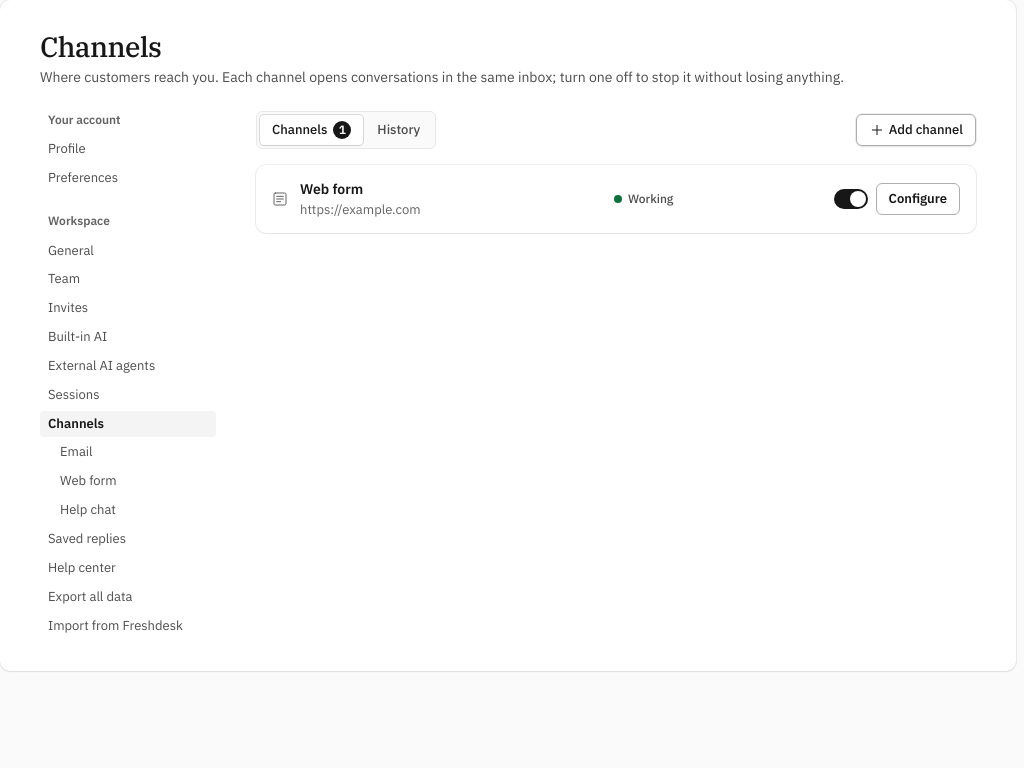
turning a channel off asks first, then sends enabled false; a failure puts the switch back and says so
This screenshot has width=1024, height=768.
Click the switch named "Web form". click: (851, 199)
box: [834,189,868,209]
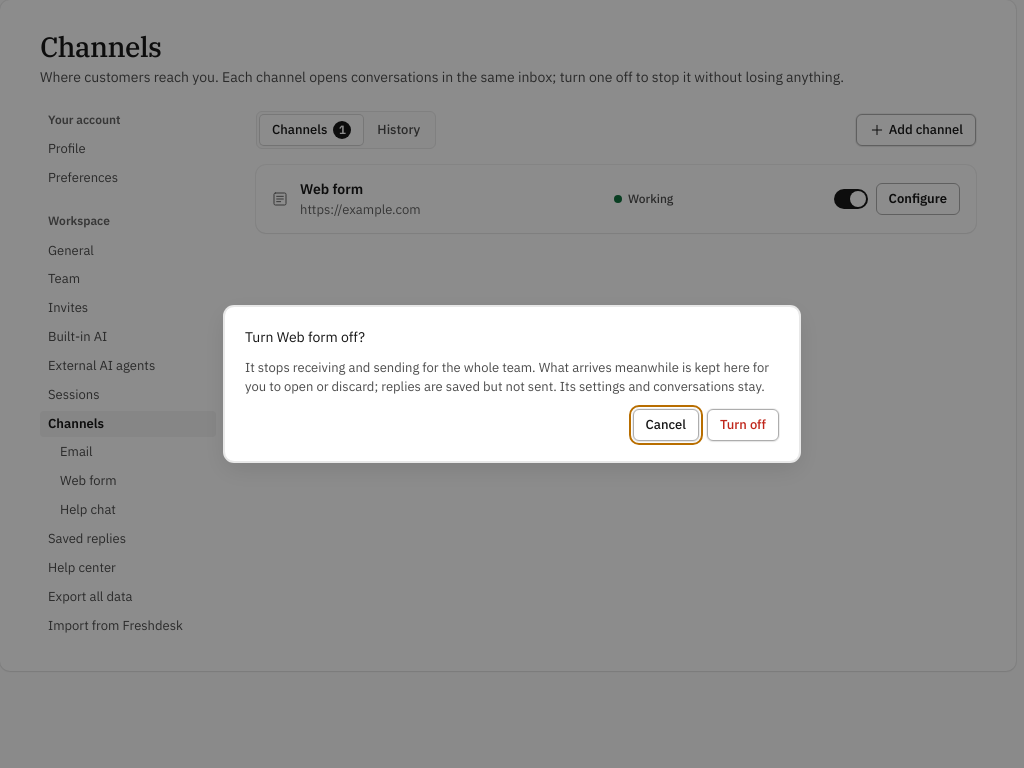
Expected: the dialog "Turn Web form off?" shows "conversations stay", [245,359,769,395]
Click the button "Turn off". click: (743, 425)
box: [707,409,779,441]
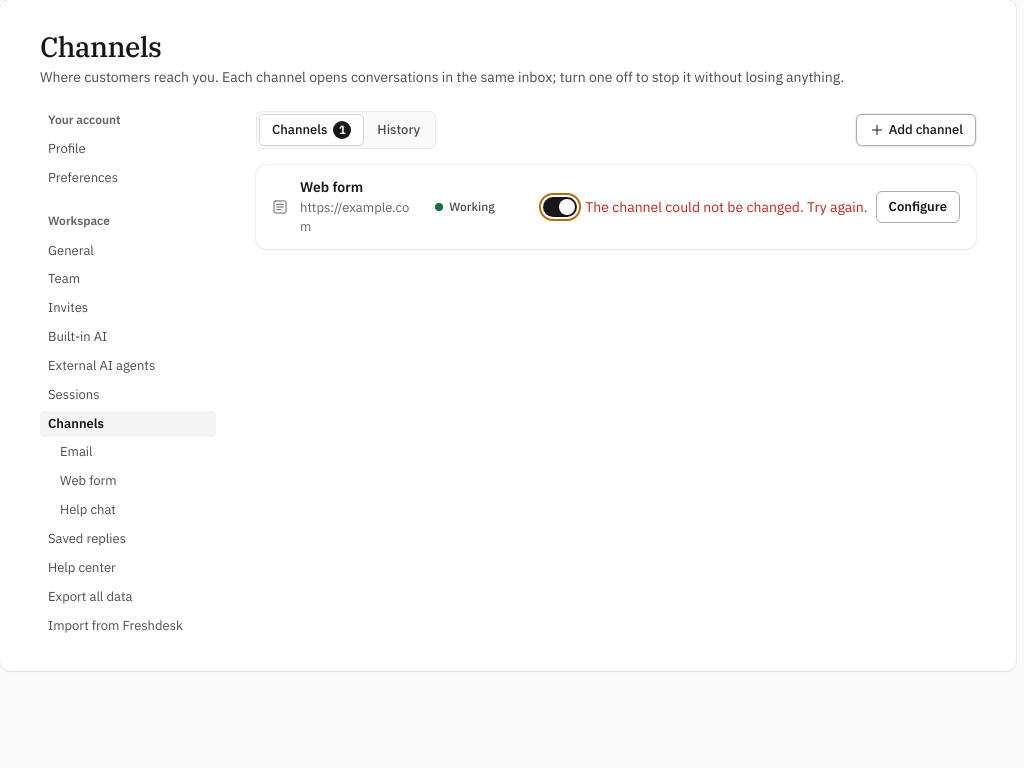
Expected: the switch named "Web form" is checked, [543,197,577,217]
Expected: the message shows "The channel could not be changed.", [585,198,868,216]
